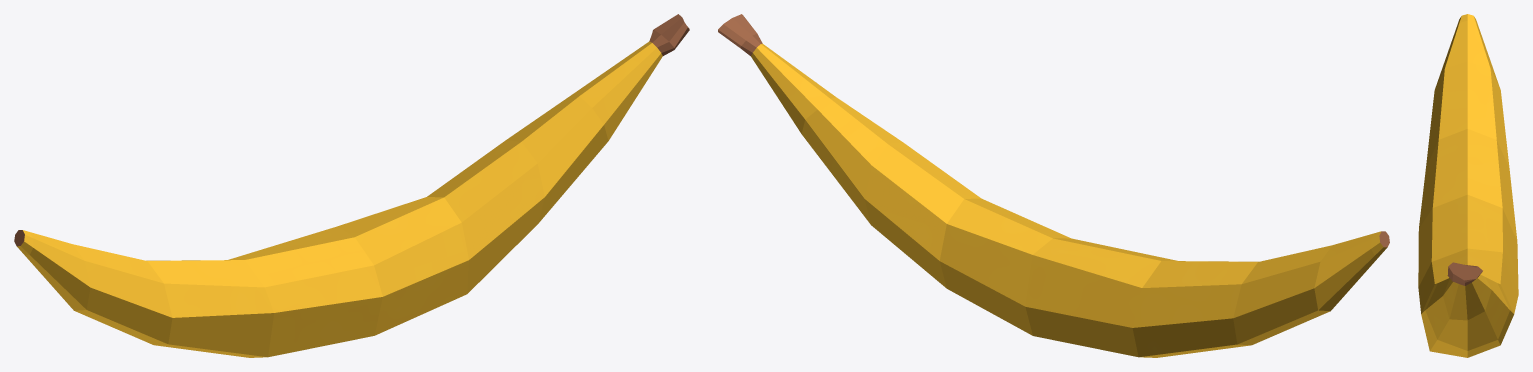
File: Banana.fbx
3 views of the same model, side by side, from view 1: azimuth 30°, elevation 25°; view 2: azimuth 150°, elevation 25°; view 3: azimuth 270°, elevation 25° (orthographic). The views are drawn at different scales.
Parts seen in each view (by area): view 1: Banana; view 2: Banana; view 3: Banana.
Part boxes in pixels (x1,y1,x2,y2): Banana: (14, 14, 689, 357); Banana: (718, 14, 1389, 357); Banana: (1418, 14, 1518, 357).
Size of the model in its own units: 0.4024 by 0.1383 by 0.0555.
